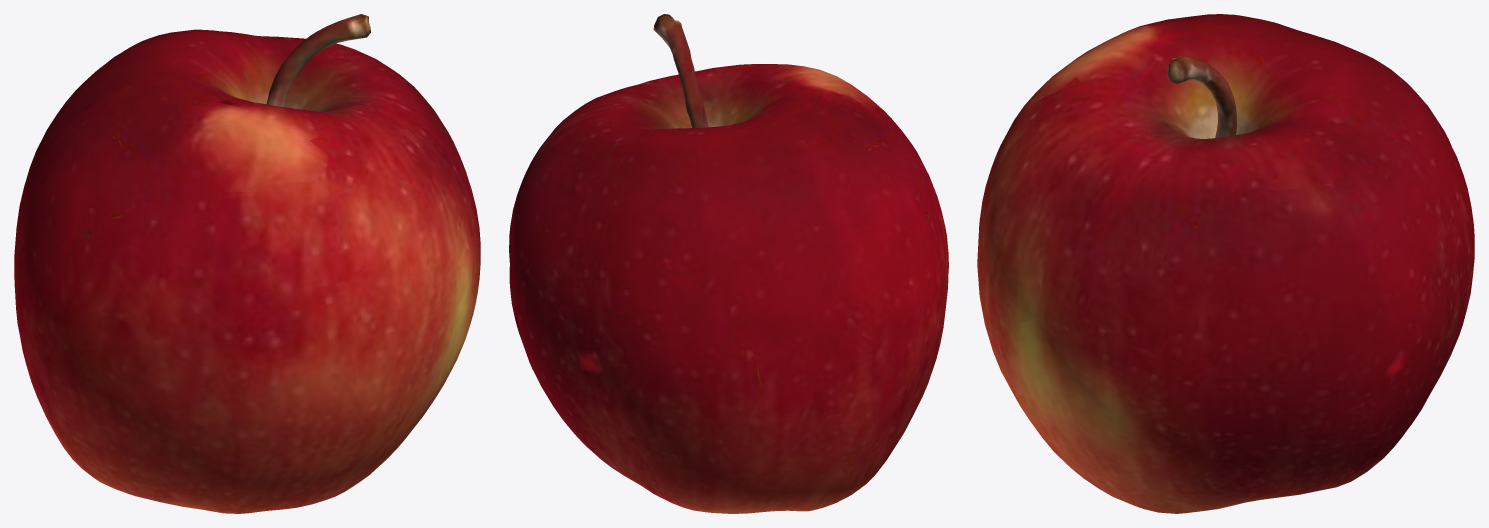
Rendered from st_apple_red.gltf.
3 renders of one model, left to right at view 1: azimuth 30°, elevation 25°; view 2: azimuth 150°, elevation 25°; view 3: azimuth 270°, elevation 25°, orthographic. The views are drawn at different scales.
Visible parts, largest first — view 1: Model; view 2: Model; view 3: Model.
Part boxes in pixels (box(x1,y1,x2,y2)): Model: box(14, 14, 480, 513); Model: box(509, 14, 948, 513); Model: box(977, 14, 1474, 513).
Bounding box in the file's own units: 0.1242 × 0.1325 × 0.1256.
Materials: 1 (1 with a texture image).
